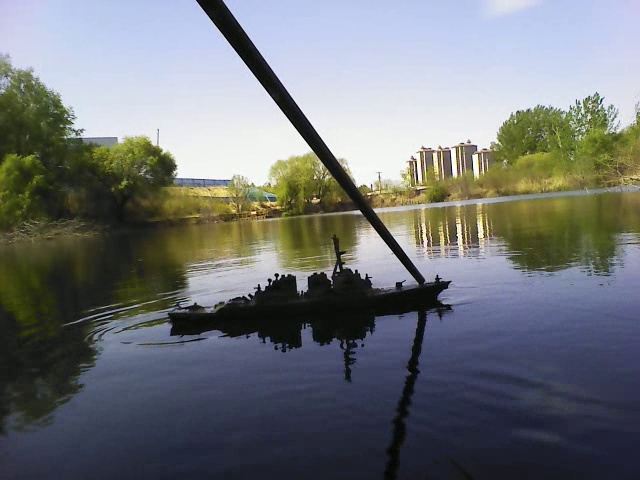warship: (168, 236, 454, 324)
